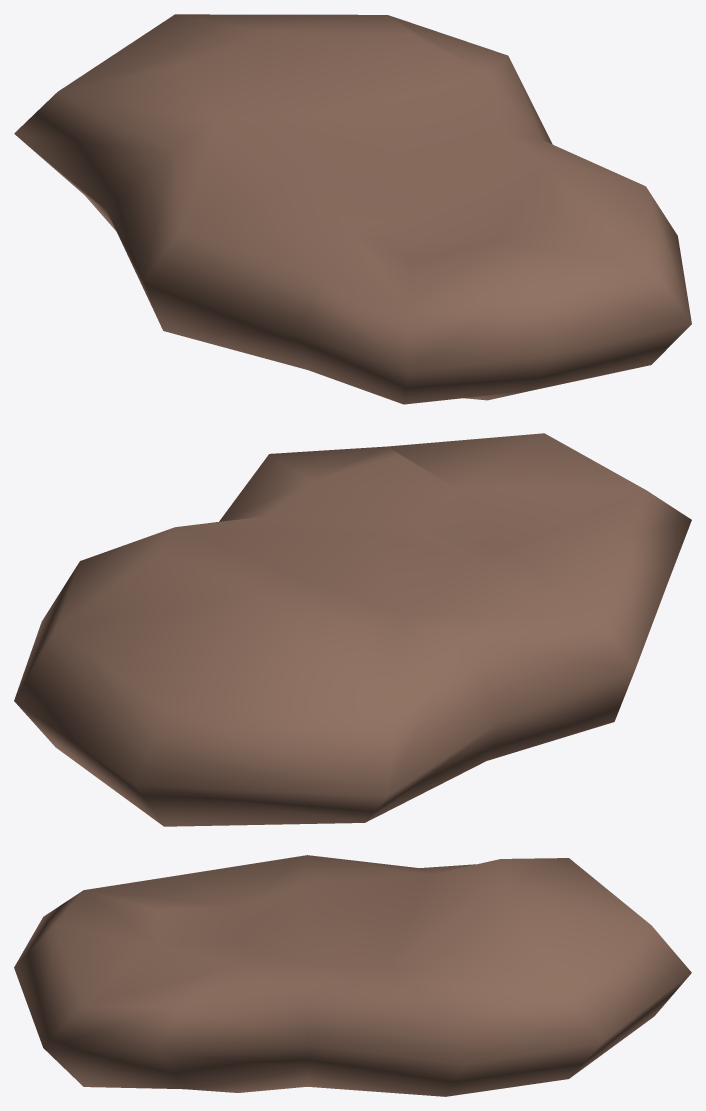
The model's file is Tiny_dirt.fbx.
3 views of the same model, one above another, from view 1: azimuth 30°, elevation 25°; view 2: azimuth 150°, elevation 25°; view 3: azimuth 270°, elevation 25° (orthographic). The views are drawn at different scales.
Parts seen in each view (by area): view 1: Tiny_dirt; view 2: Tiny_dirt; view 3: Tiny_dirt.
Part boxes in pixels (x1,y1,x2,y2): Tiny_dirt: (14, 14, 691, 404); Tiny_dirt: (14, 433, 691, 826); Tiny_dirt: (14, 855, 691, 1096).
Size of the model in its own units: 0.1898 by 0.079 by 0.2858.
